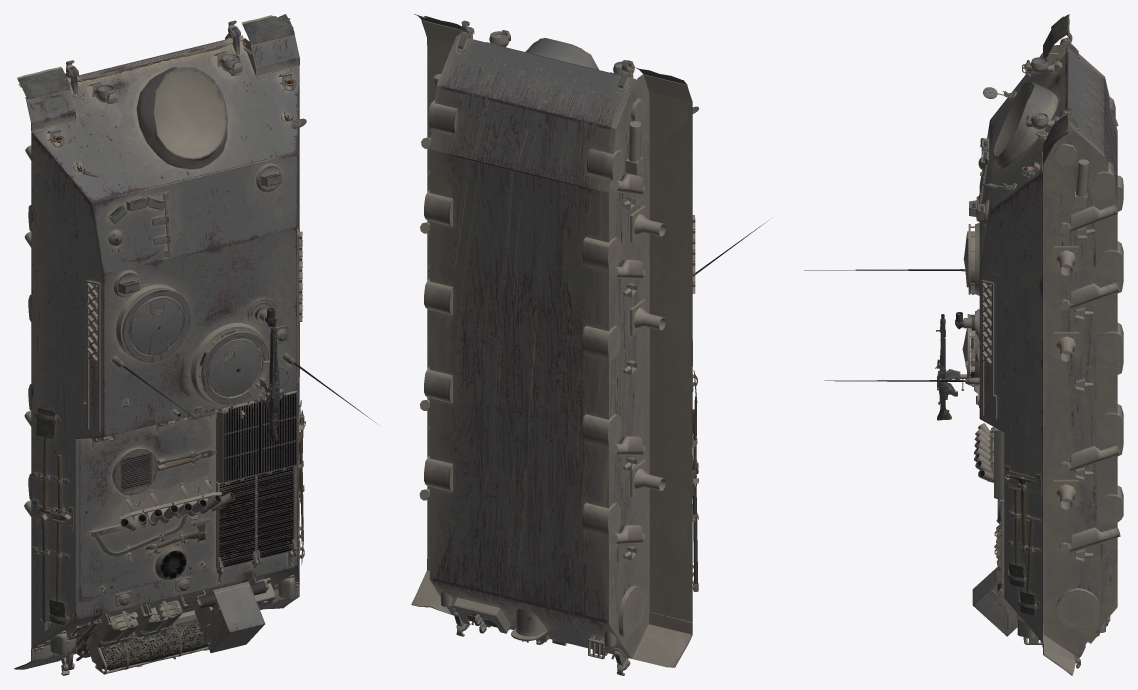
Rendered from Hull.glb.
3 views of the same model, side by side, from view 1: azimuth 30°, elevation 25°; view 2: azimuth 150°, elevation 25°; view 3: azimuth 270°, elevation 25° (orthographic). The views are drawn at different scales.
Parts seen in each view (by area): view 1: set_0_group_0; view 2: set_0_group_0; view 3: set_0_group_0.
Boxes of the visible parts, bbox=[...] form: set_0_group_0: bbox=[14, 14, 376, 675]; set_0_group_0: bbox=[411, 14, 768, 675]; set_0_group_0: bbox=[804, 14, 1123, 675].
Size of the model in its own units: 3.01 by 6.56 by 3.39.
Materials: 1 (1 with a texture image).
